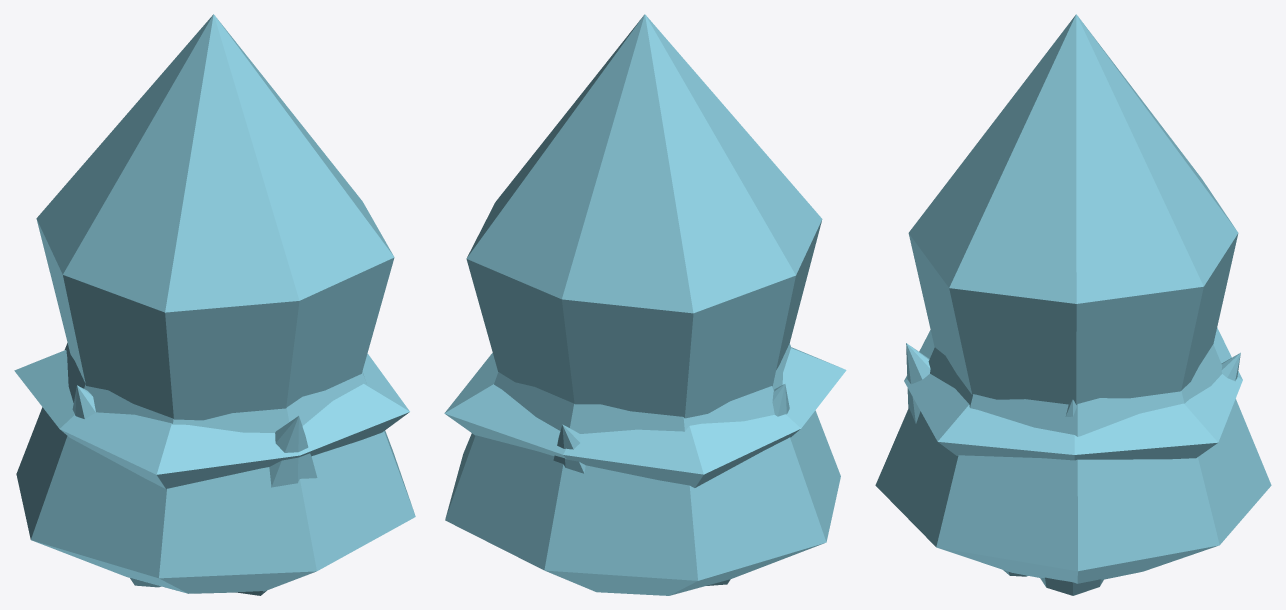
File: Crystals.fbx
The picture shows the model from 3 angles, left to right: view 1: azimuth 30°, elevation 25°; view 2: azimuth 150°, elevation 25°; view 3: azimuth 270°, elevation 25°; orthographic projection. The views are drawn at different scales.
Visible parts, largest first — view 1: Crystal5, Crystal4, Crystal8, Crystal10; view 2: Crystal5, Crystal4, Crystal8, Crystal10; view 3: Crystal5, Crystal4, Crystal8, Crystal10.
Part boxes in pixels (x1,y1,x2,y2): Crystal5: (36,14,394,593); Crystal4: (16,343,415,593); Crystal8: (14,350,409,489); Crystal10: (72,385,317,595); Crystal5: (466,14,822,418); Crystal4: (445,343,840,595); Crystal8: (444,347,846,487); Crystal10: (553,384,789,585); Crystal5: (908,14,1238,404); Crystal4: (875,344,1271,583); Crystal8: (904,327,1242,460); Crystal10: (906,343,1240,595).
Bounding box in the file's own units: 16.52 × 24.01 × 16.
